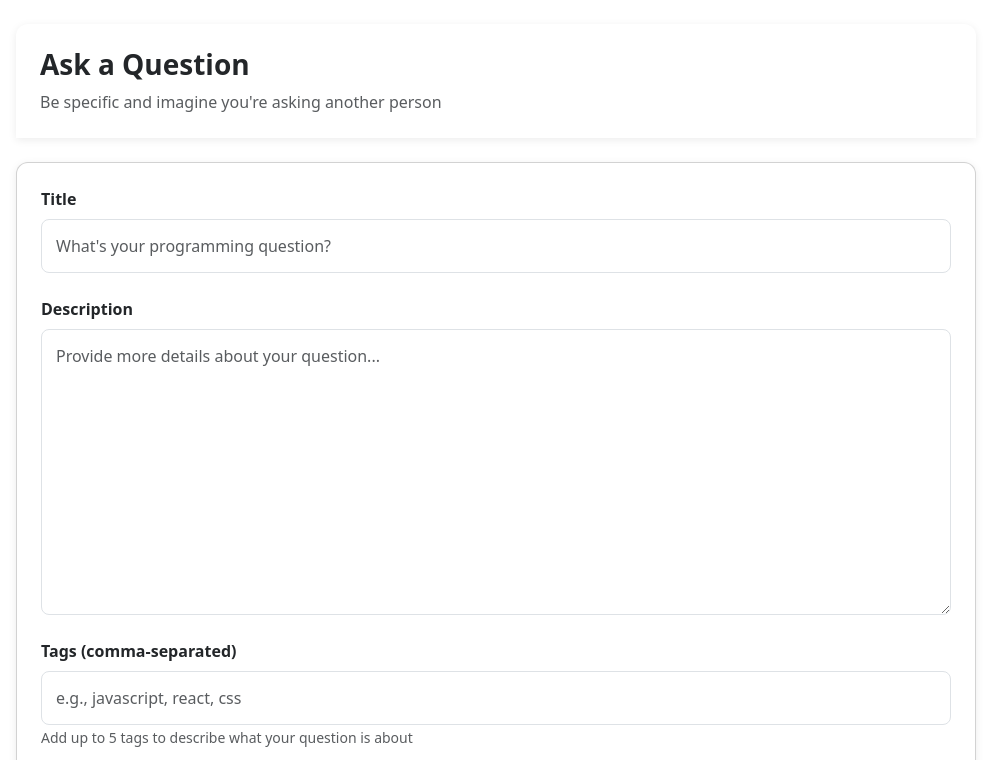
Test: Question Quality Improver › allows submitting the form while suggestions are still pending
The width and height of the screenshot is (993, 760).
Later steps or results of the test are not shown.
Type "react not working" into the field labelled "Title". click: (496,246)
box: [41,219,951,273]
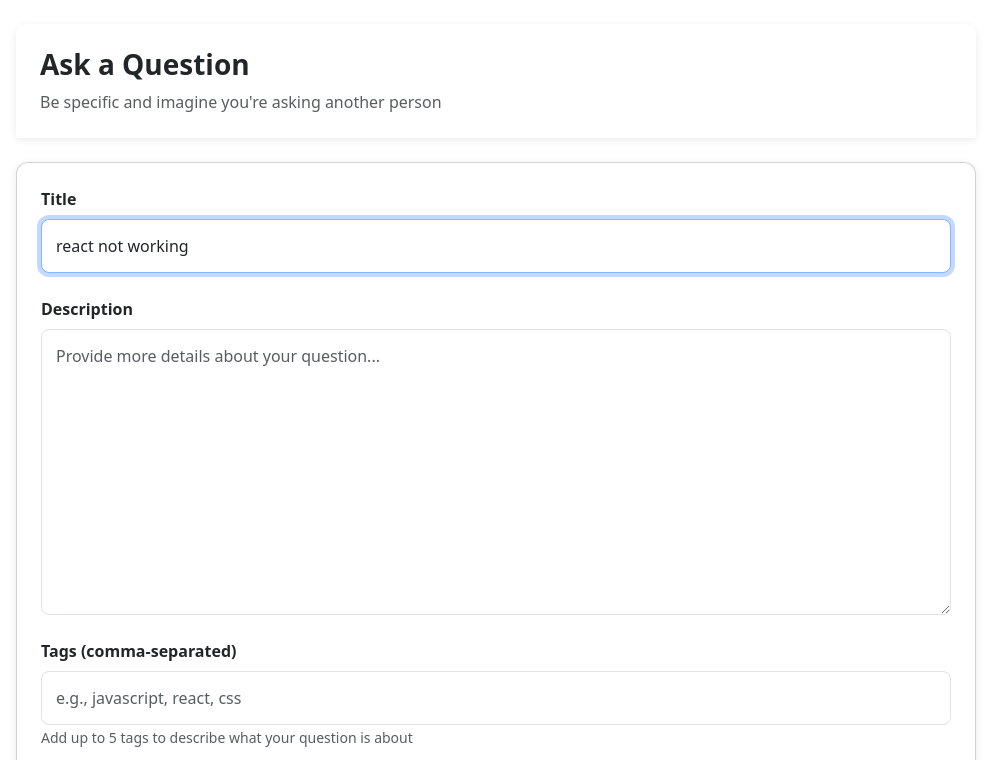
Type "useEffect runs twice" into the text box labelled "Description". click: (496,472)
box: [41,329,951,614]
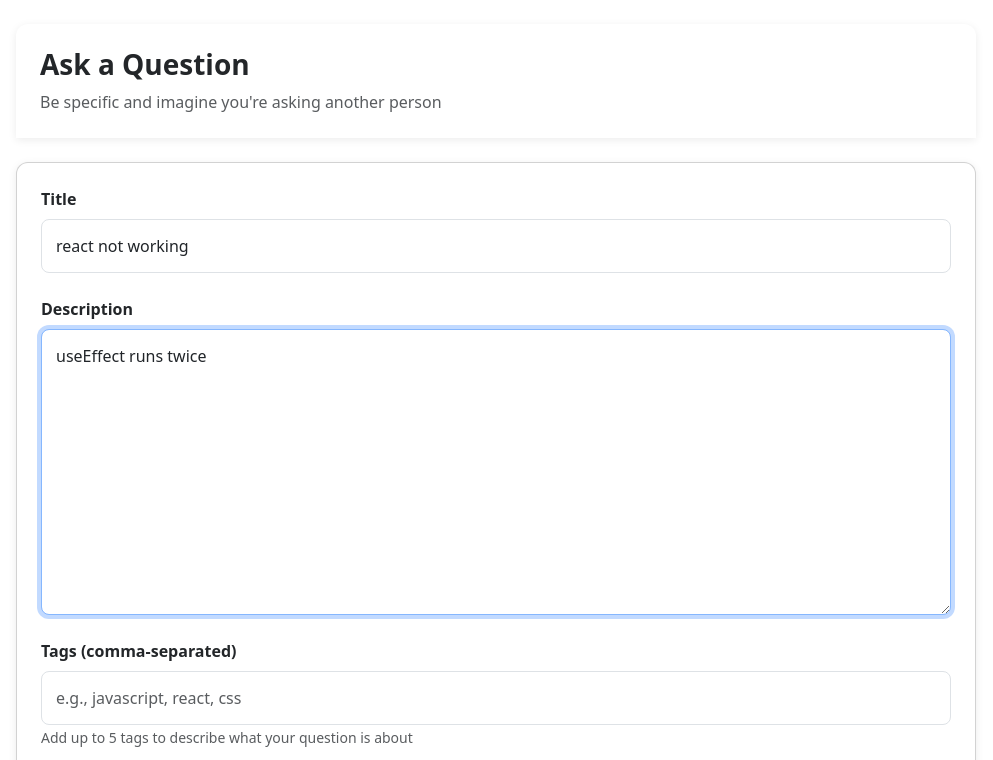
Type "react" into the field labelled "Tags (comma-separated)". click: (496,698)
box: [41,670,951,724]
(page scrolled)
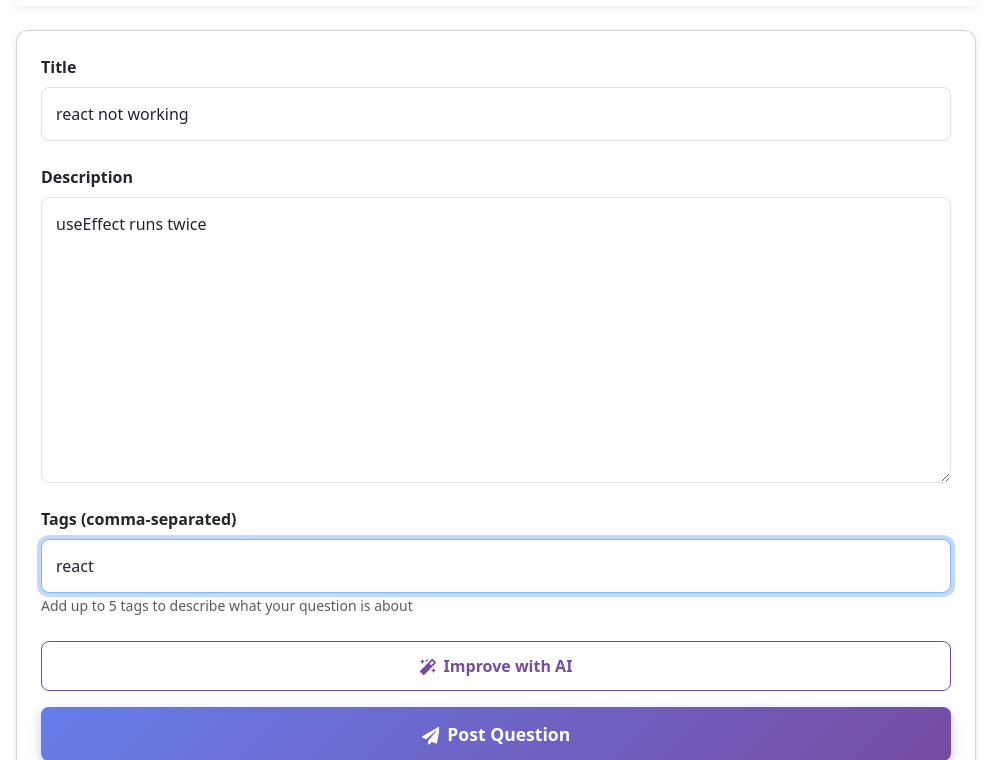
Click the button "Improve with AI". click: (496,666)
box: [41,640,951,690]
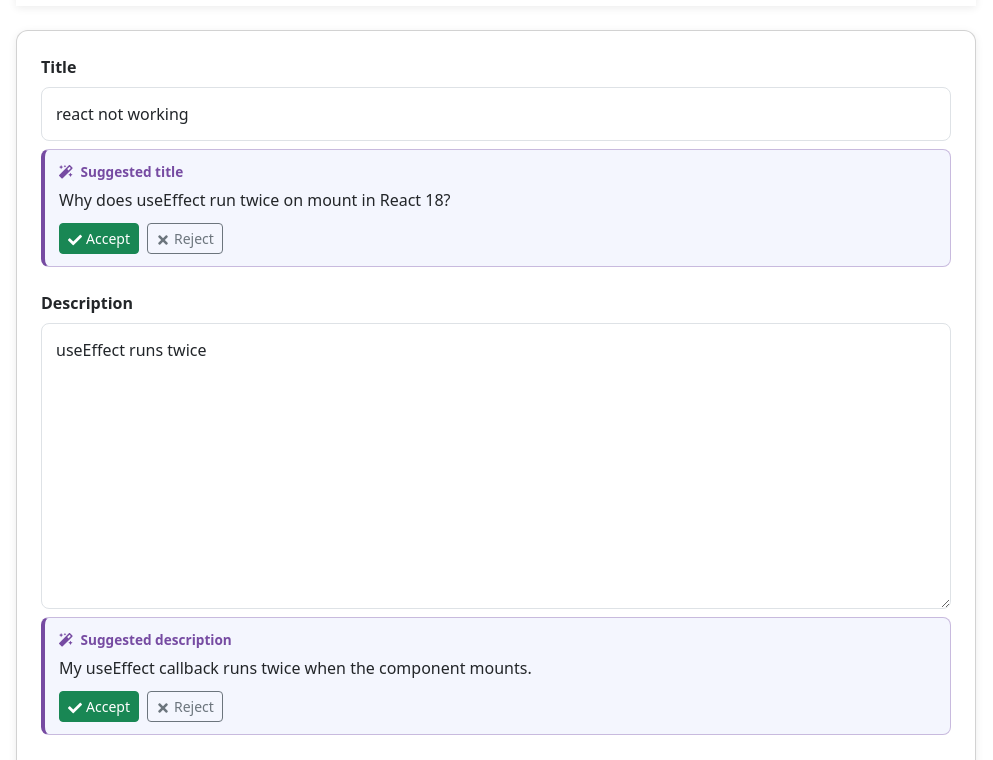
Expected: the element with test id "ai-suggestion-title" is shown, [41,149,951,267]
